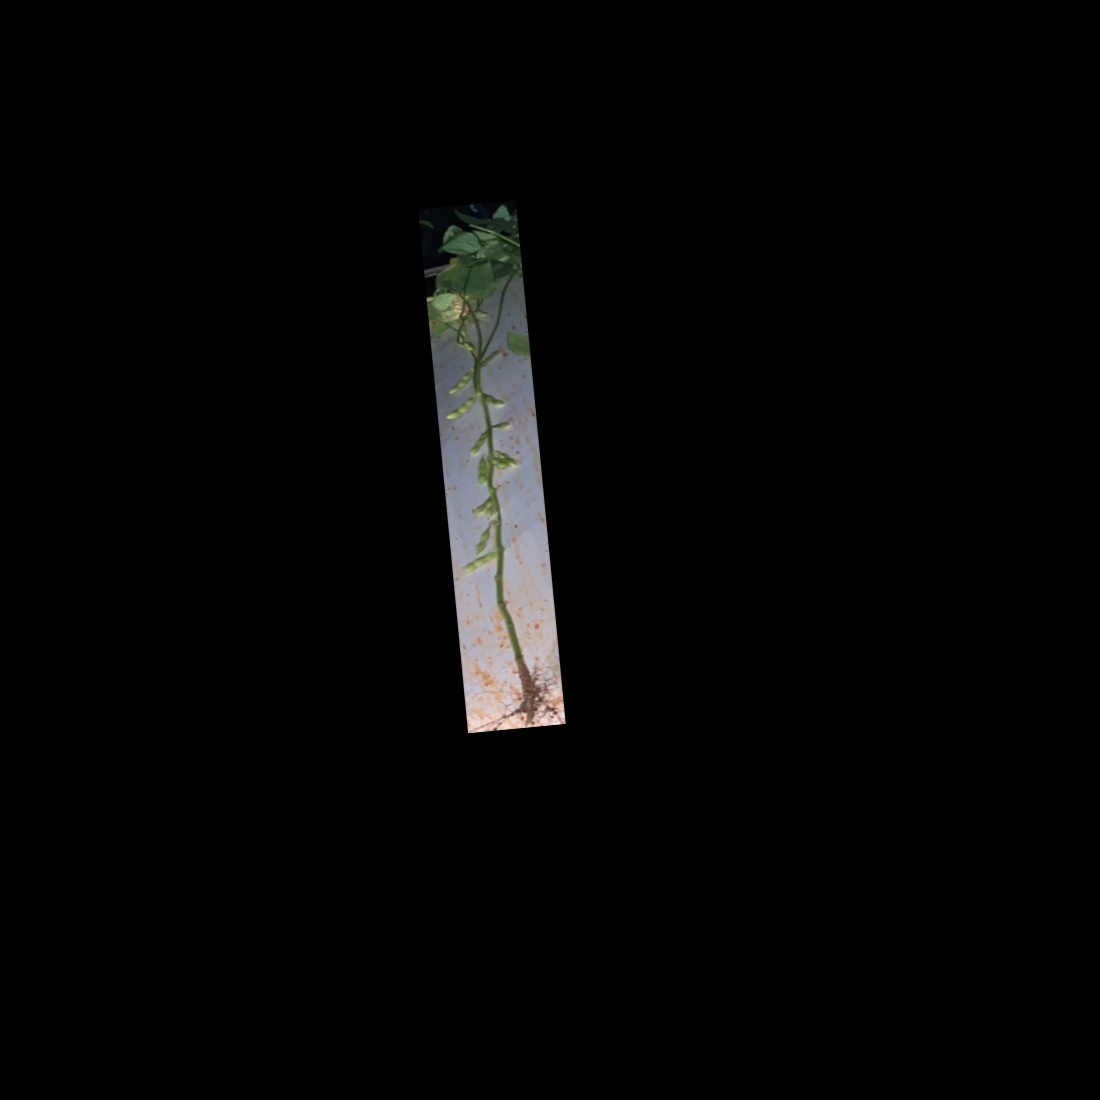pod: (443, 393, 482, 422), (442, 368, 475, 397), (459, 551, 499, 574), (471, 524, 496, 557), (464, 431, 490, 459), (471, 453, 491, 487), (470, 497, 496, 516), (492, 452, 512, 472), (484, 392, 506, 409)
soy: (422, 216, 557, 728)
